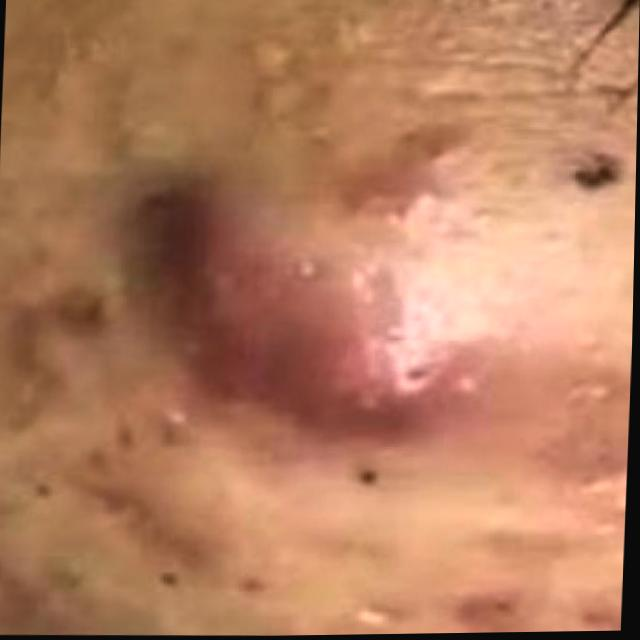nodule: (87, 183, 522, 451)
